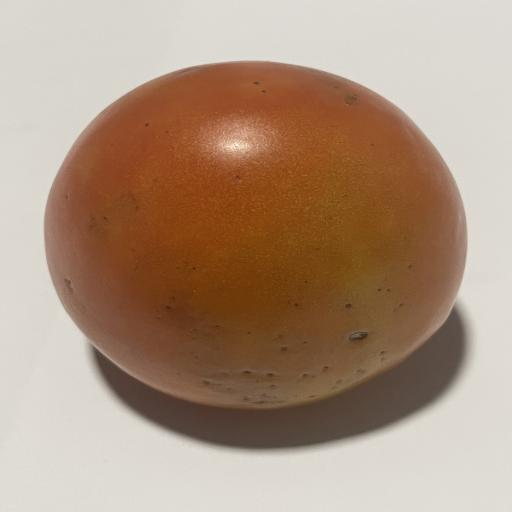unripe: (45, 62, 466, 409)
